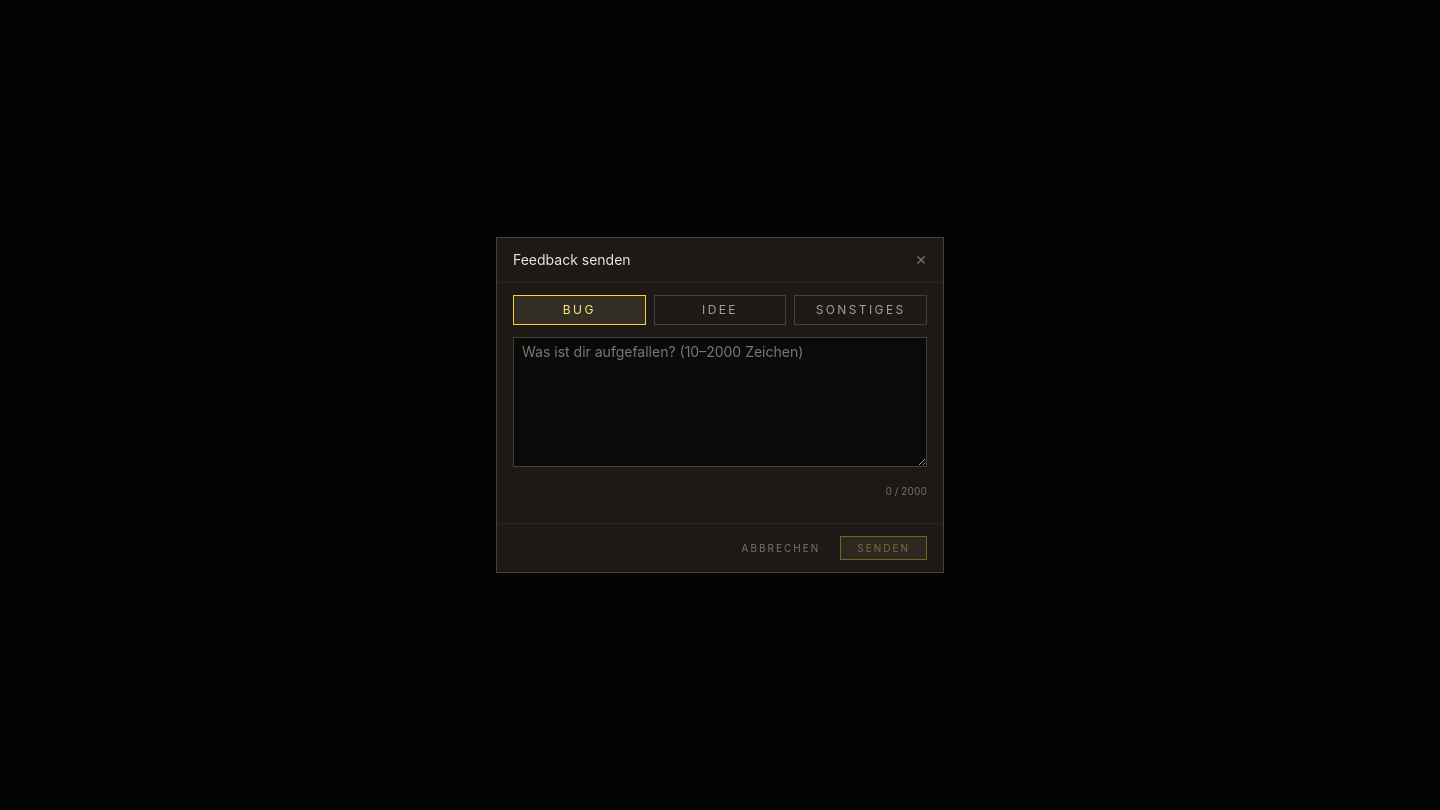
FeedbackDialog › zeigt Status-Feedback nach erfolgreichem Submit
The image size is (1440, 810).
Type "Ein passendes Feedback mit ausreichend Zeichen." into the text box with test id "feedback-message". click: point(720, 402)
box: [513, 337, 927, 467]
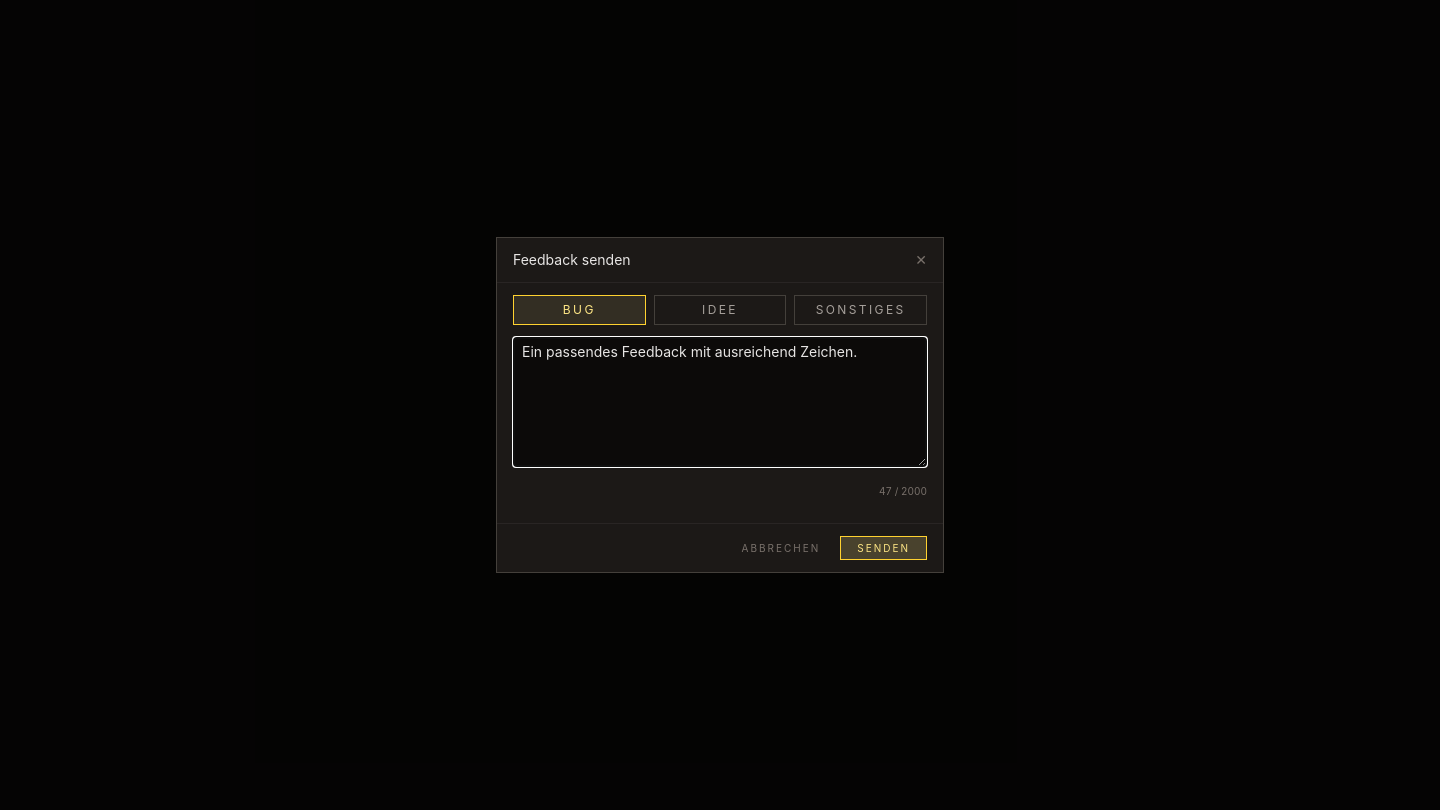
Click the button with test id "feedback-submit". click: point(884, 548)
box: [840, 536, 927, 560]
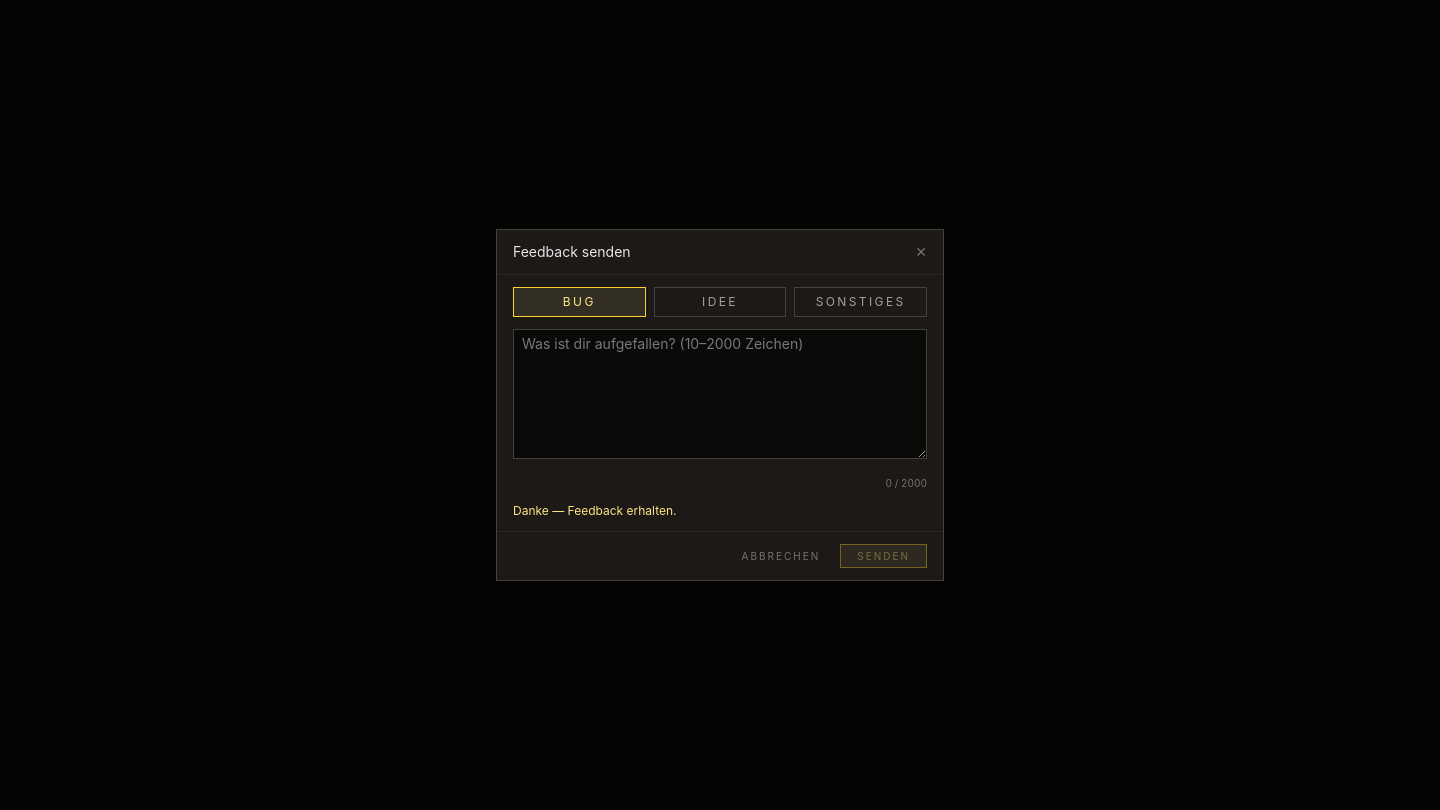
Now the text with test id "feedback-status" shows "Danke", box [513, 502, 676, 518]
